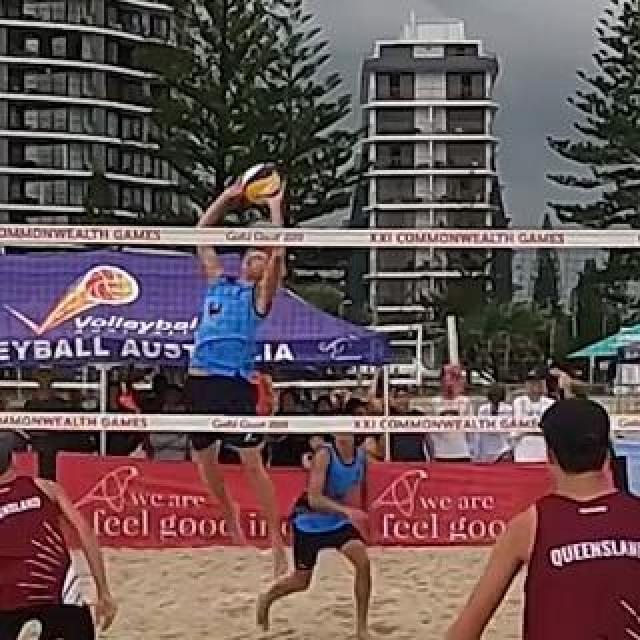volleyball: (242, 165, 284, 207)
